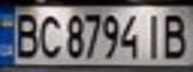4: (118, 10, 142, 60)
7: (81, 10, 103, 60)
8: (60, 10, 84, 60)
9: (100, 10, 121, 60)
B: (9, 9, 42, 60), (160, 10, 193, 60)
C: (36, 10, 63, 60)
I: (142, 9, 169, 61)
